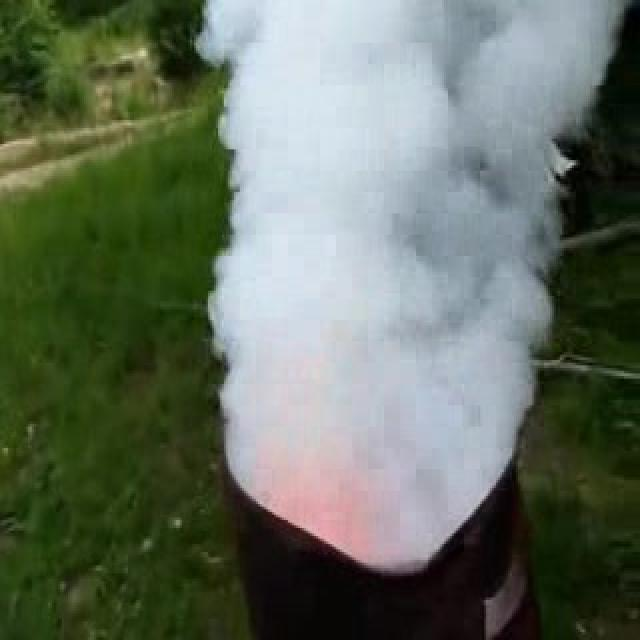Smoke: (191, 0, 628, 576)
